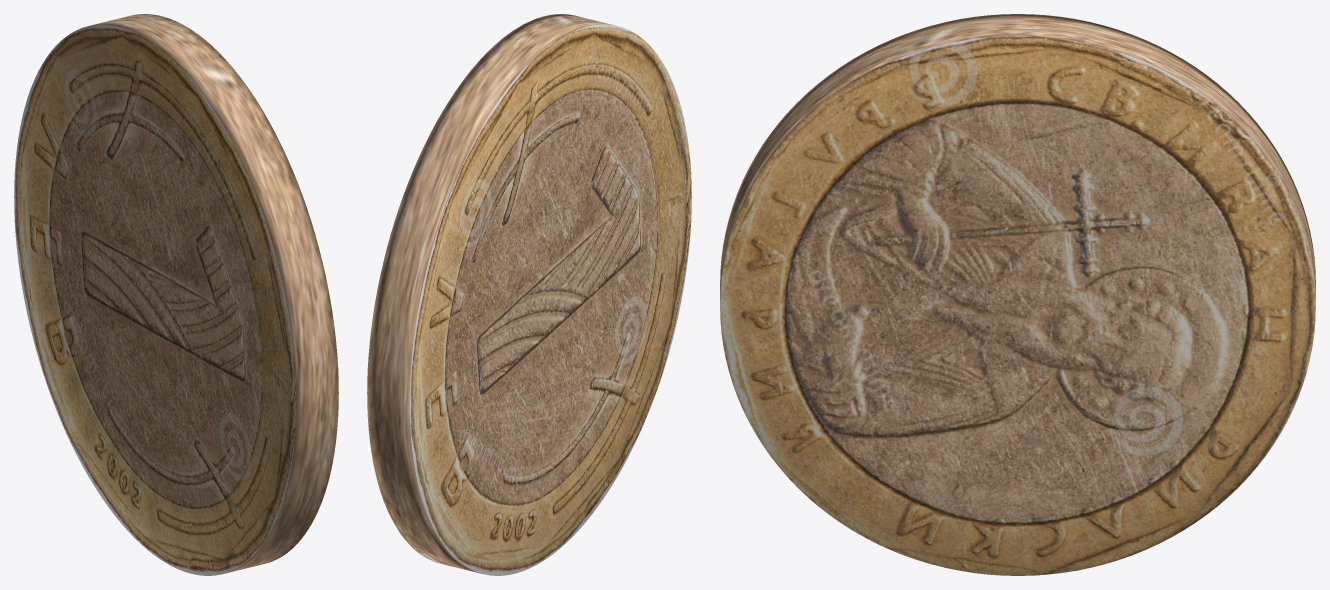
Rendered from coin 1.fbx.
The picture shows the model from 3 angles, left to right: view 1: azimuth 30°, elevation 25°; view 2: azimuth 150°, elevation 25°; view 3: azimuth 270°, elevation 25°; orthographic projection. The views are drawn at different scales.
Visible parts, largest first — view 1: Cylinder; view 2: Cylinder; view 3: Cylinder.
Boxes of the visible parts, left/top/right/bottom form: Cylinder: left=14, top=14, right=338, bottom=575; Cylinder: left=367, top=14, right=691, bottom=575; Cylinder: left=720, top=14, right=1315, bottom=575.
Bounding box in the file's own units: 17.29 × 199 × 199.
